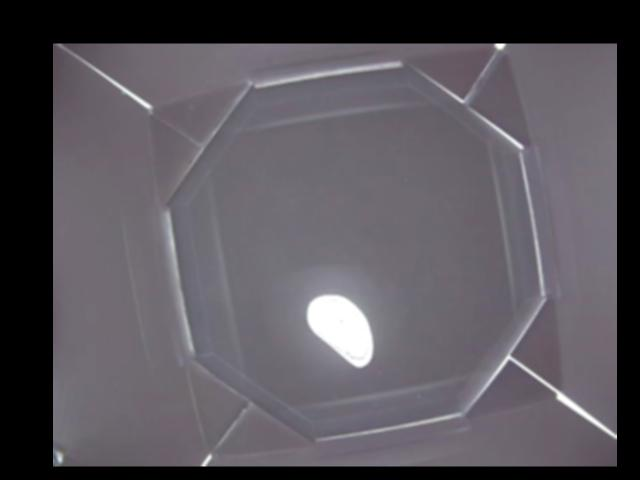Pebble: (305, 293, 373, 367)
